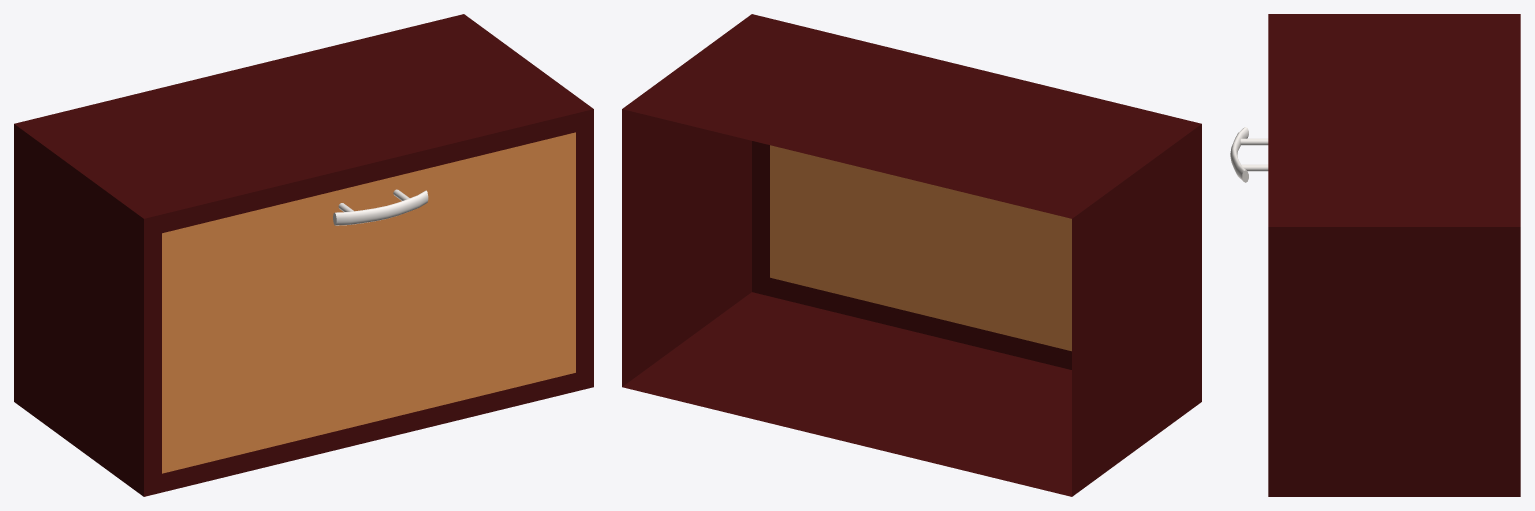
File: Counter.fbx
3 views of the same model, side by side, from view 1: azimuth 30°, elevation 25°; view 2: azimuth 150°, elevation 25°; view 3: azimuth 270°, elevation 25° (orthographic). The views are drawn at different scales.
Parts seen in each view (by area): view 1: Counter; view 2: Counter; view 3: Counter.
Part boxes in pixels (box(x1,y1,x2,y2)): Counter: box(14, 14, 593, 496); Counter: box(622, 14, 1201, 496); Counter: box(1230, 14, 1520, 496).
Bounding box in the file's own units: 100 × 57.51 × 59.06.
